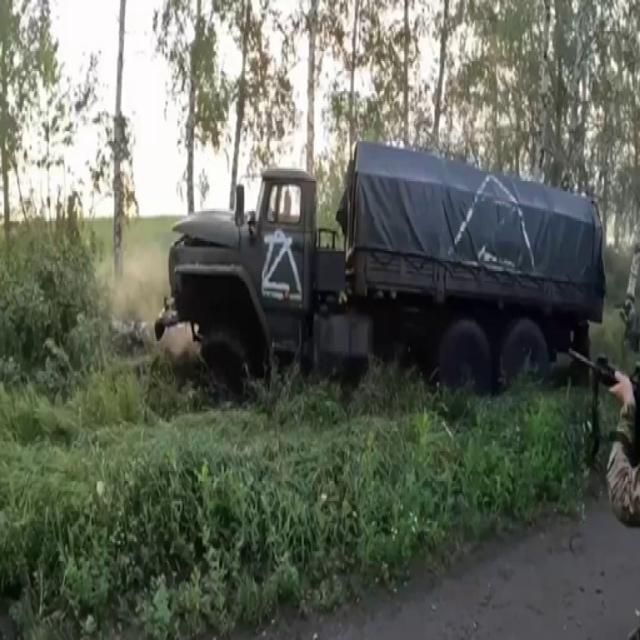TRUCK: (138, 120, 602, 416)
